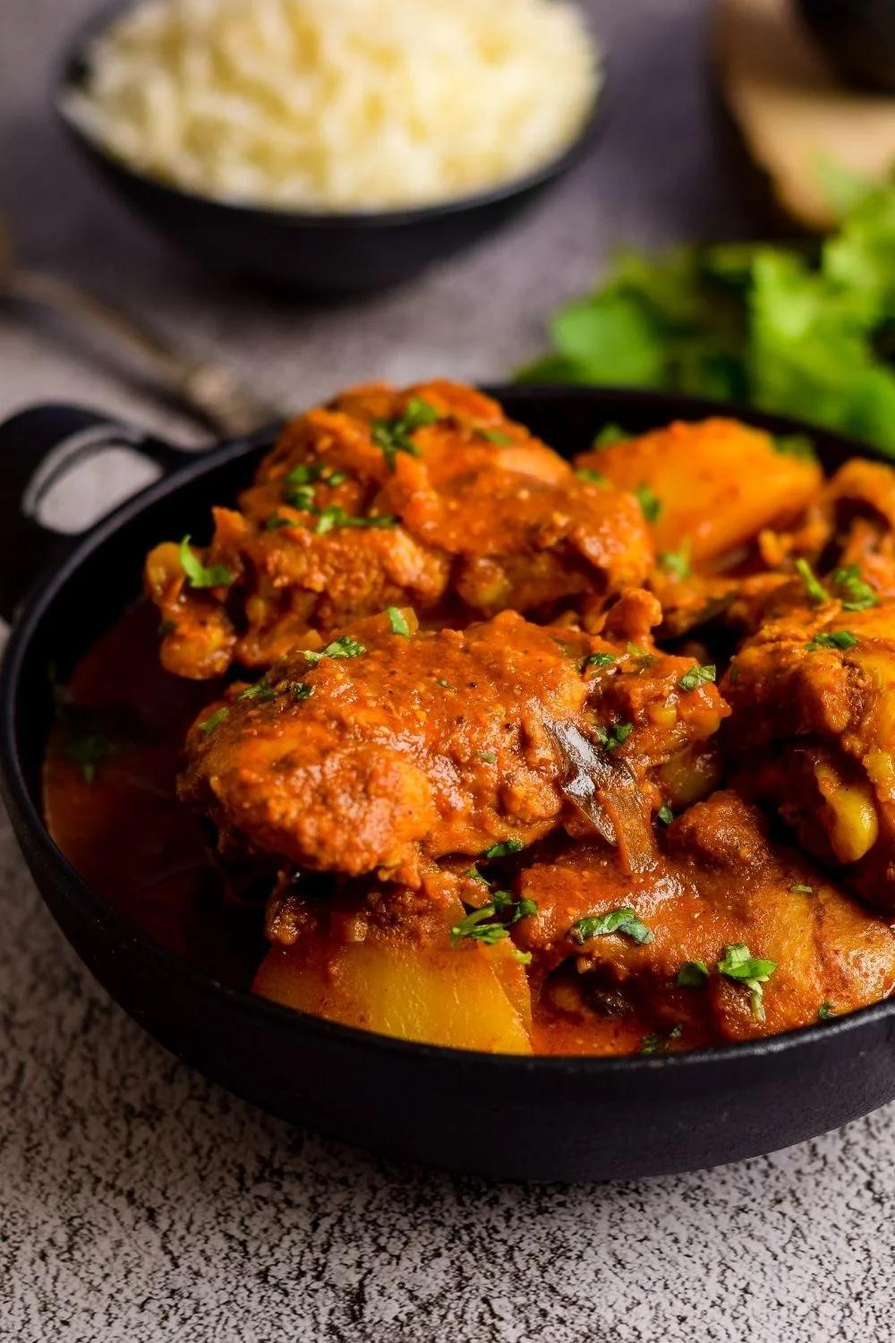chicken: (170, 450, 895, 1002)
